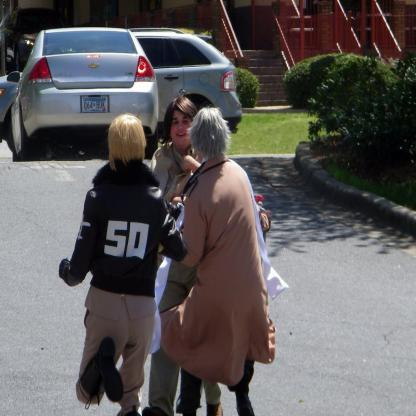car: (0, 25, 241, 151), (6, 28, 158, 158)
